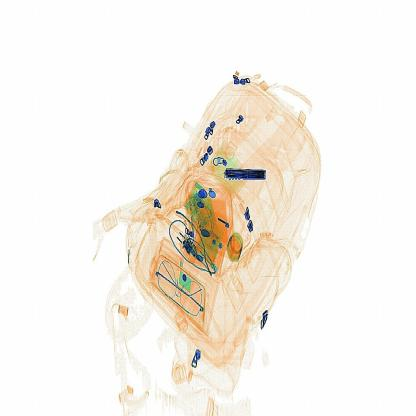scissors: (224, 164, 271, 187)
